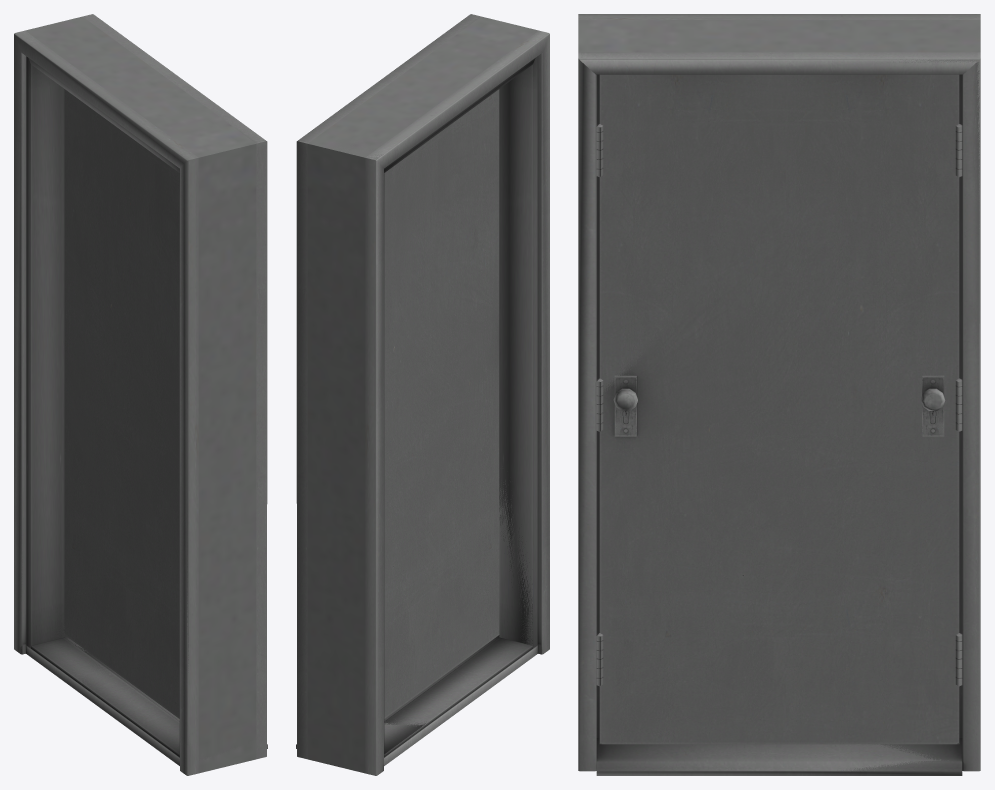
File: prop_blade_metaldoor.glb
3 renders of one model, left to right at view 1: azimuth 30°, elevation 25°; view 2: azimuth 150°, elevation 25°; view 3: azimuth 270°, elevation 25°, orthographic. The views are drawn at different scales.
Visible parts, largest first — view 1: g_frame_b, g_door_a, g_frame_a, g_door_b; view 2: g_frame_a, g_door_a, g_door_b, g_frame_b; view 3: g_door_a, g_door_b, g_frame_b, g_frame_a.
Boxes of the visible parts, <box> form: g_frame_b: <box>15,15,267,762</box>; g_door_a: <box>64,89,179,674</box>; g_frame_a: <box>14,14,267,775</box>; g_door_b: <box>64,104,179,718</box>; g_frame_a: <box>296,14,549,775</box>; g_door_a: <box>384,89,499,649</box>; g_door_b: <box>384,105,499,718</box>; g_frame_b: <box>296,143,541,757</box>; g_door_a: <box>599,74,959,744</box>; g_door_b: <box>599,74,945,744</box>; g_frame_b: <box>578,18,980,775</box>; g_frame_a: <box>578,14,980,771</box>.
Size of the model in its own units: 0.3236 by 2.15 by 1.1.
Materials: 1 (1 with a texture image).
